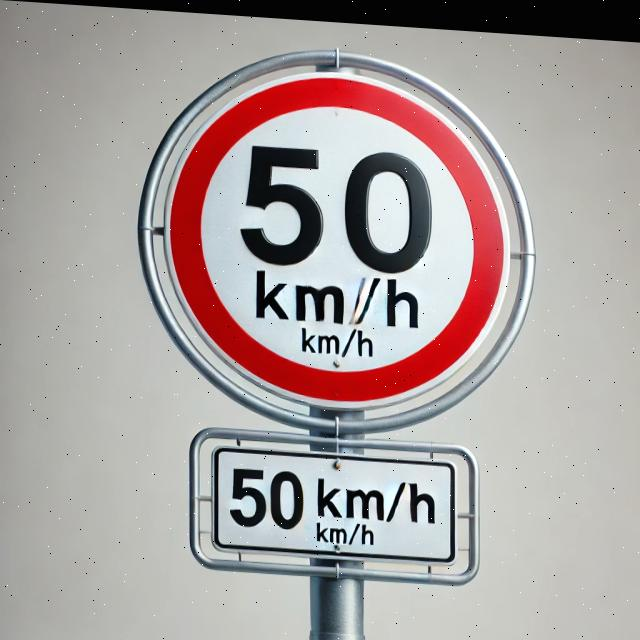Speed limit 50: (139, 35, 538, 434)
